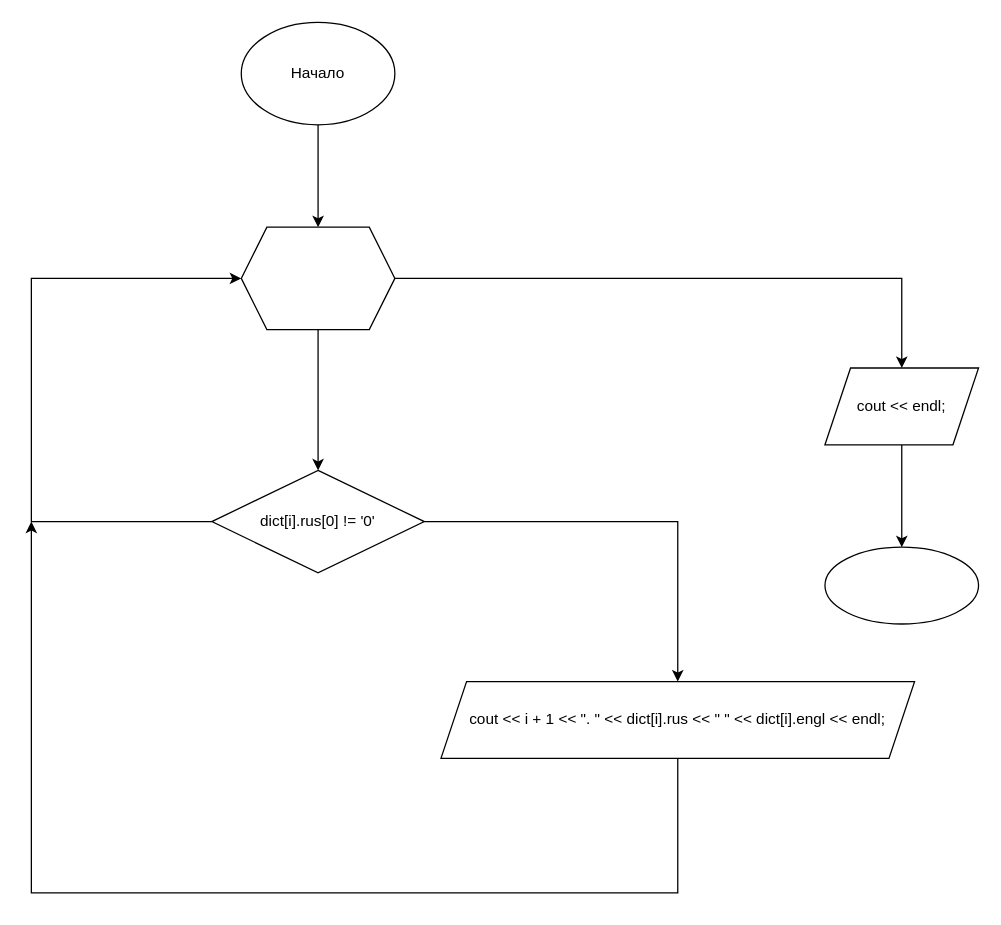
This 1001x925 diagram has some shape labels left out. The shapes that lost their labels are listed below. From the top down, each one's box as (x1, y1, x2, y2) in pixels, then its label:
(240, 226, 395, 330): int i = 0; i < n; i++
(824, 546, 979, 624): Конец
